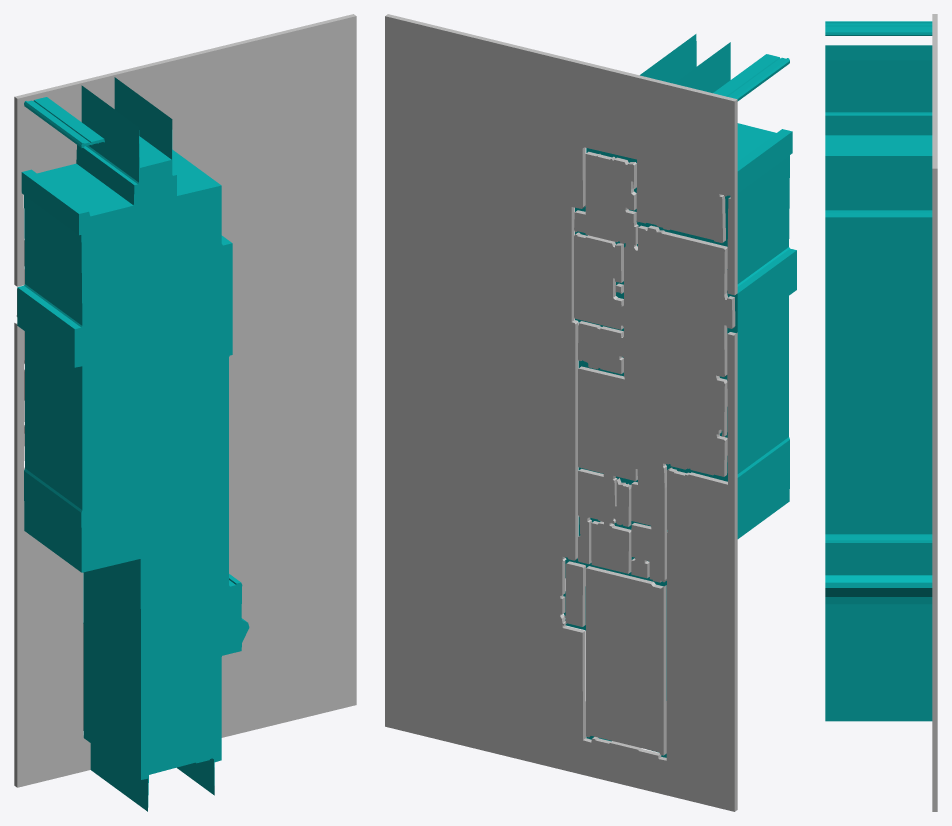
3 views of the same model, side by side, from view 1: azimuth 30°, elevation 25°; view 2: azimuth 150°, elevation 25°; view 3: azimuth 270°, elevation 25° (orthographic). The views are drawn at different scales.
Visible parts, largest first — view 1: world; view 2: world; view 3: world.
Boxes of the visible parts, <box> form: world: <box>14,14,356,811</box>; world: <box>385,14,796,811</box>; world: <box>825,14,937,811</box>.
Bounding box in the file's own units: 10.23 × 19.86 × 3.15.
